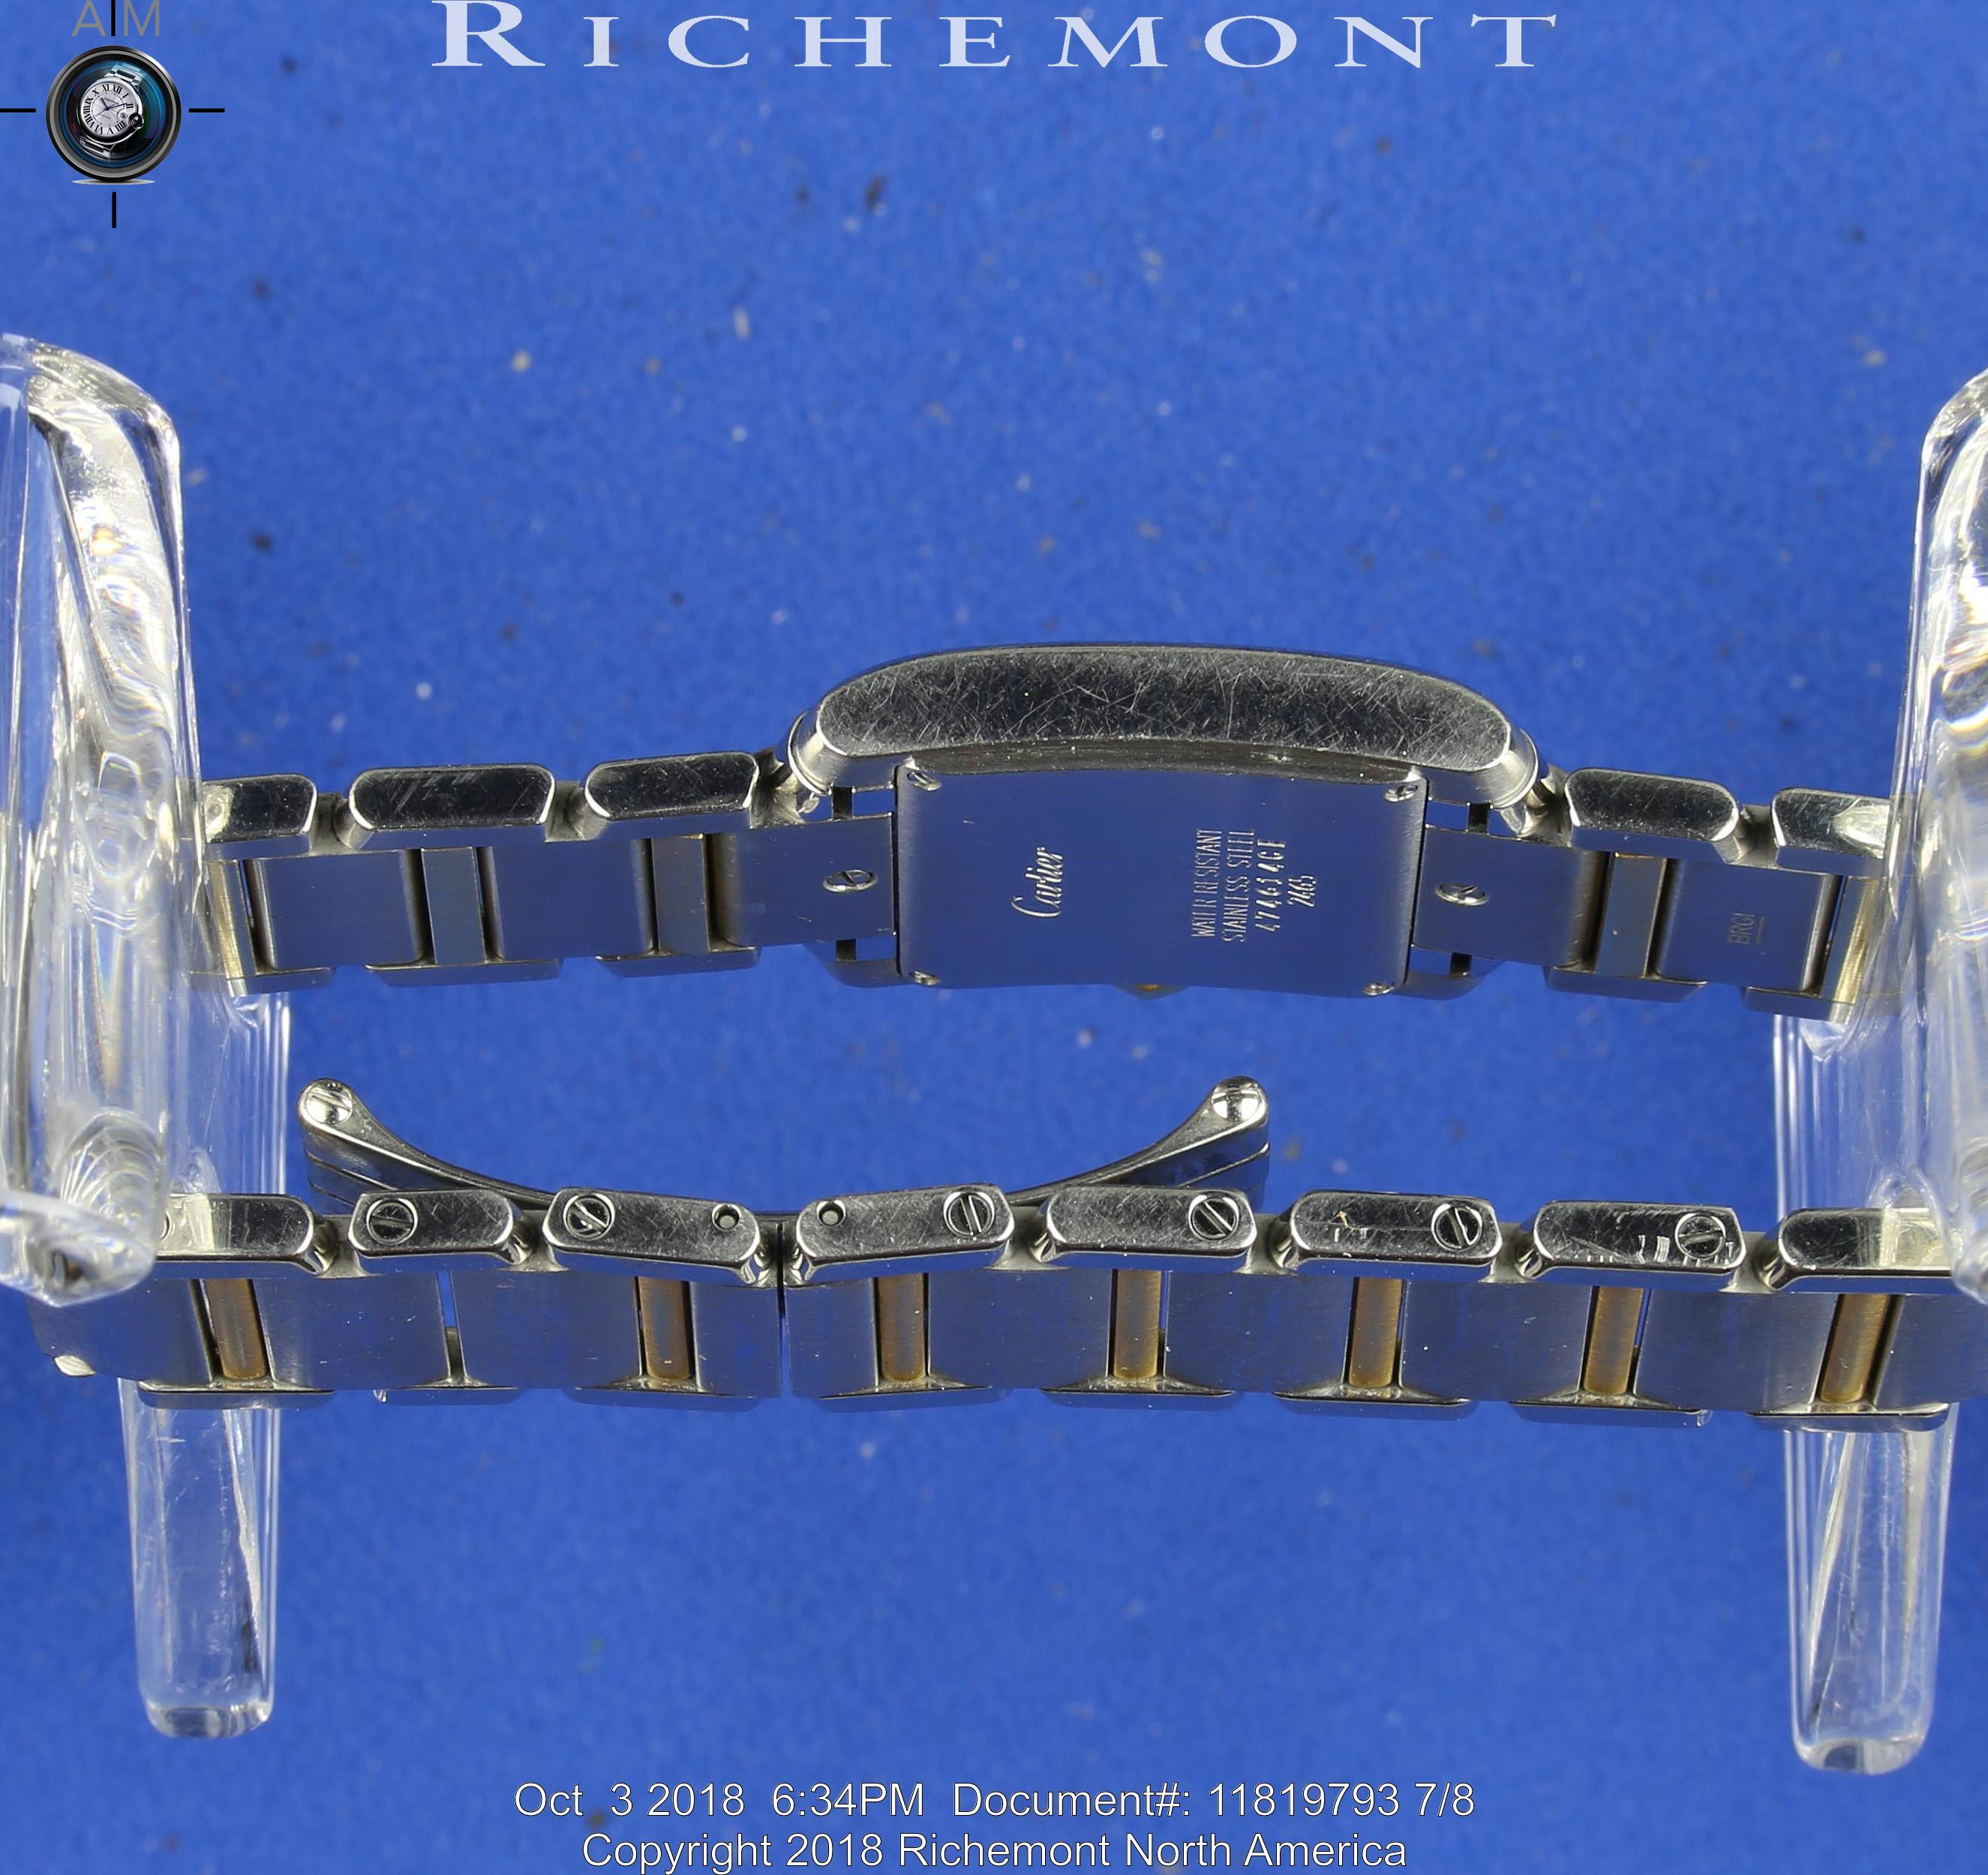watchback: (821, 675, 1484, 1024)
